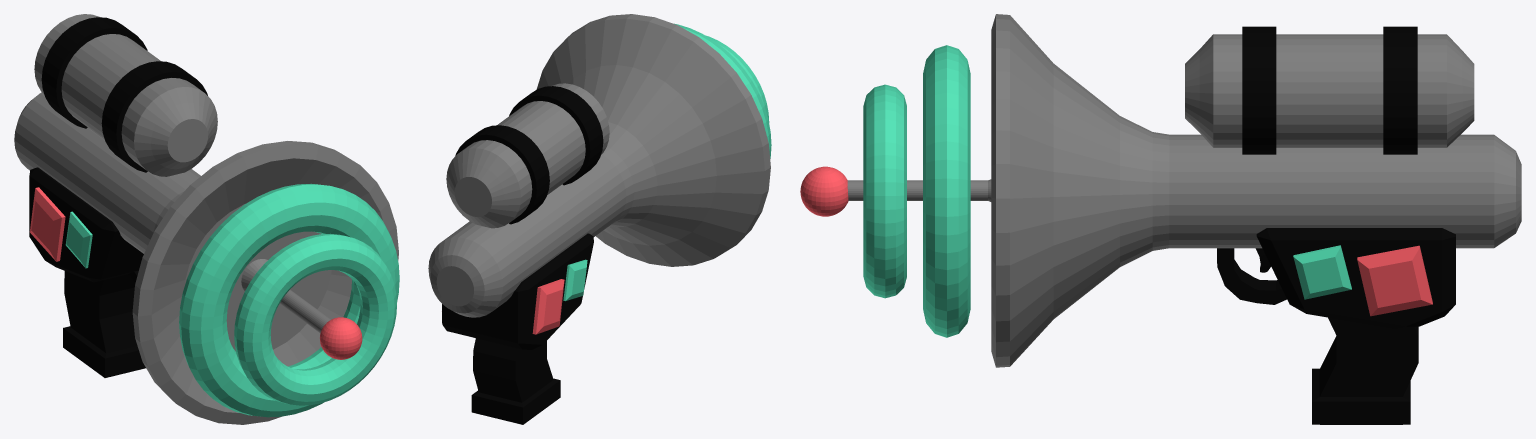
File: spacePewPew.fbx
The picture shows the model from 3 angles, left to right: view 1: azimuth 30°, elevation 25°; view 2: azimuth 150°, elevation 25°; view 3: azimuth 270°, elevation 25°; orthographic projection. The views are drawn at different scales.
Visible parts, largest first — view 1: Cylinder.001, Torus, Torus.001, Cylinder, Cube.001, Cube, Cylinder.002, Cylinder.003, Cube.004, Sphere, Cube.005; view 2: Cylinder.001, Cylinder, Cube.001, Cube, Cylinder.002, Cylinder.003, Cube.004, Torus, Cube.005, Torus.001; view 3: Cylinder.001, Cylinder, Torus, Cube, Cube.001, Torus.001, Cylinder.003, Cylinder.002, Cube.004, Cube.005, Sphere, Cube.002.
Part boxes in pixels (bbox=[...]): Cylinder.001: bbox=[14, 92, 398, 424]; Torus: bbox=[179, 183, 399, 417]; Torus.001: bbox=[234, 233, 396, 405]; Cylinder: bbox=[34, 14, 217, 176]; Cube.001: bbox=[63, 271, 145, 377]; Cube: bbox=[29, 167, 143, 282]; Cylinder.002: bbox=[101, 61, 207, 172]; Cylinder.003: bbox=[41, 17, 147, 128]; Cube.004: bbox=[29, 187, 65, 261]; Sphere: bbox=[320, 317, 362, 359]; Cube.005: bbox=[65, 211, 92, 268]; Cylinder.001: bbox=[428, 14, 770, 317]; Cylinder: bbox=[446, 83, 609, 228]; Cube.001: bbox=[471, 338, 560, 424]; Cube: bbox=[442, 233, 593, 349]; Cylinder.002: bbox=[509, 86, 603, 185]; Cylinder.003: bbox=[455, 125, 549, 224]; Cube.004: bbox=[532, 279, 564, 334]; Torus: bbox=[674, 23, 771, 158]; Cube.005: bbox=[563, 259, 587, 301]; Torus.001: bbox=[706, 35, 769, 122]; Cylinder.001: bbox=[847, 14, 1521, 367]; Cylinder: bbox=[1185, 34, 1474, 147]; Torus: bbox=[923, 45, 970, 337]; Cube: bbox=[1256, 228, 1455, 328]; Cube.001: bbox=[1312, 317, 1418, 424]; Torus.001: bbox=[863, 84, 906, 298]; Cylinder.003: bbox=[1383, 26, 1417, 154]; Cylinder.002: bbox=[1242, 26, 1276, 154]; Cube.004: bbox=[1357, 245, 1432, 316]; Cube.005: bbox=[1293, 245, 1351, 299]; Sphere: bbox=[800, 166, 848, 216]; Cube.002: bbox=[1217, 248, 1286, 304].
Bounding box in the file's own units: 302 × 361 × 615.
